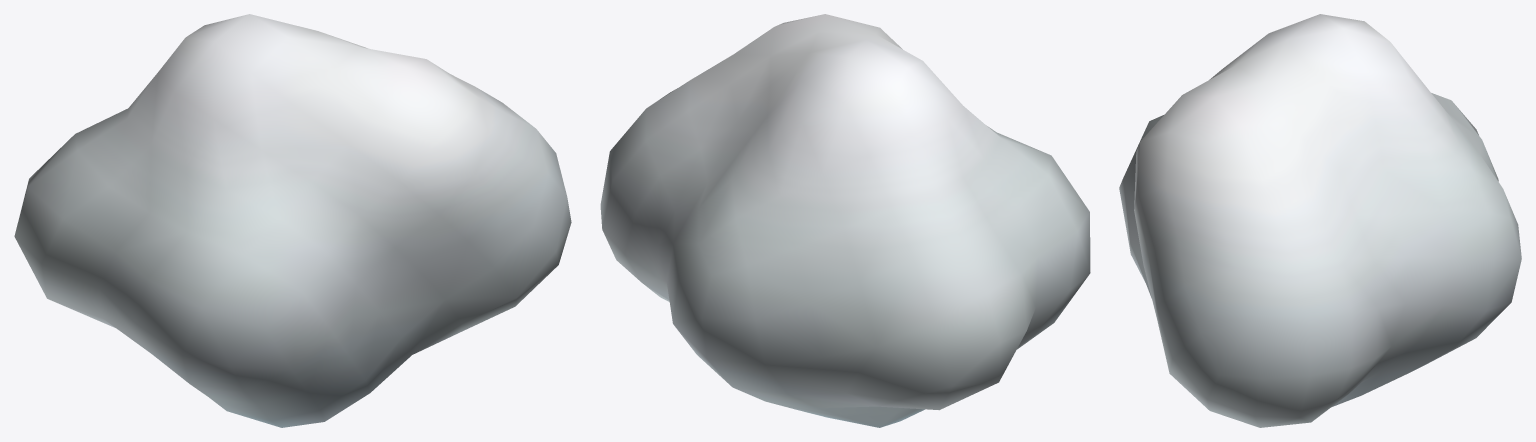
File: cloud_small.glb
The picture shows the model from 3 angles, left to right: view 1: azimuth 30°, elevation 25°; view 2: azimuth 150°, elevation 25°; view 3: azimuth 270°, elevation 25°; orthographic projection. The views are drawn at different scales.
Parts seen in each view (by area): view 1: cloud_small; view 2: cloud_small; view 3: cloud_small.
Boxes of the visible parts, x1=… form: cloud_small: x1=14, y1=14, x2=571, y2=427; cloud_small: x1=600, y1=14, x2=1090, y2=427; cloud_small: x1=1119, y1=14, x2=1521, y2=427.
Size of the model in its own units: 2.34 by 1.84 by 1.79.
1 material, 1 textured.
